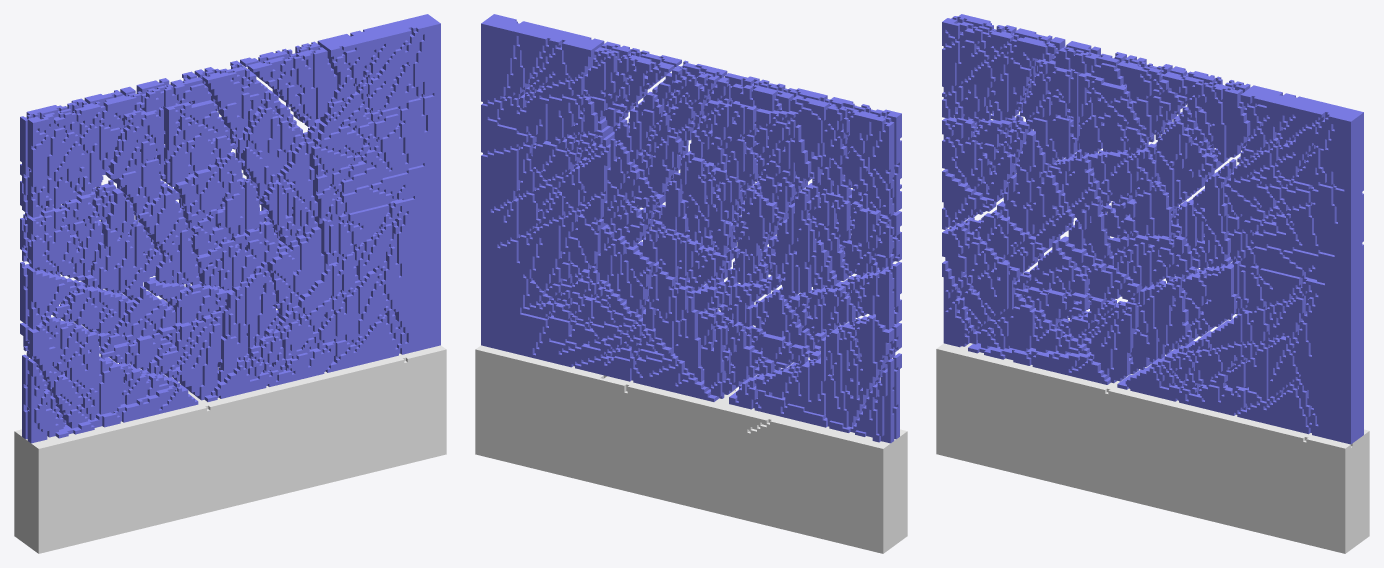
The model's file is Operating_room_Window2-1.fbx.
3 renders of one model, left to right at view 1: azimuth 30°, elevation 25°; view 2: azimuth 150°, elevation 25°; view 3: azimuth 330°, elevation 25°, orthographic.
Parts seen in each view (by area): view 1: Operating room Window2-1.001, Operating room Window2-1.039, Operating room Window2-1.011, Operating room Window2-1.004, Operating room Window2-1.037, Operating room Window2-1.033, Operating room Window2-1.020, Operating room Window2-1.008, Operating room Window2-1.016, Operating room Window2-1.032, Operating room Window2-1.022, Operating room Window2-1.041 (+18 smaller); view 2: Operating room Window2-1.001, Operating room Window2-1.039, Operating room Window2-1.010, Operating room Window2-1.005, Operating room Window2-1.038, Operating room Window2-1.034, Operating room Window2-1.009, Operating room Window2-1.017, Operating room Window2-1.023, Operating room Window2-1.031, Operating room Window2-1.040, Operating room Window2-1.029 (+21 smaller); view 3: Operating room Window2-1.039, Operating room Window2-1.001, Operating room Window2-1.011, Operating room Window2-1.004, Operating room Window2-1.037, Operating room Window2-1.033, Operating room Window2-1.020, Operating room Window2-1.008, Operating room Window2-1.016, Operating room Window2-1.022, Operating room Window2-1.032, Operating room Window2-1.043 (+15 smaller).
Boxes of the visible parts, x1=… form: Operating room Window2-1.001: x1=14, y1=345, x2=446, y2=553; Operating room Window2-1.039: x1=204, y1=14, x2=440, y2=401; Operating room Window2-1.011: x1=27, y1=93, x2=141, y2=217; Operating room Window2-1.004: x1=27, y1=315, x2=173, y2=428; Operating room Window2-1.037: x1=202, y1=67, x2=302, y2=196; Operating room Window2-1.033: x1=175, y1=152, x2=269, y2=255; Operating room Window2-1.020: x1=100, y1=311, x2=222, y2=400; Operating room Window2-1.008: x1=27, y1=180, x2=115, y2=281; Operating room Window2-1.016: x1=82, y1=188, x2=162, y2=298; Operating room Window2-1.032: x1=163, y1=100, x2=233, y2=187; Operating room Window2-1.022: x1=105, y1=107, x2=165, y2=212; Operating room Window2-1.041: x1=217, y1=261, x2=278, y2=381; Operating room Window2-1.001: x1=475, y1=345, x2=907, y2=553; Operating room Window2-1.039: x1=481, y1=14, x2=719, y2=401; Operating room Window2-1.010: x1=778, y1=92, x2=894, y2=216; Operating room Window2-1.005: x1=748, y1=314, x2=894, y2=427; Operating room Window2-1.038: x1=617, y1=66, x2=719, y2=194; Operating room Window2-1.034: x1=654, y1=150, x2=745, y2=255; Operating room Window2-1.009: x1=811, y1=186, x2=894, y2=281; Operating room Window2-1.017: x1=762, y1=188, x2=839, y2=298; Operating room Window2-1.023: x1=756, y1=108, x2=814, y2=212; Operating room Window2-1.031: x1=690, y1=100, x2=758, y2=185; Operating room Window2-1.040: x1=643, y1=261, x2=704, y2=381; Operating room Window2-1.029: x1=698, y1=310, x2=774, y2=398; Operating room Window2-1.039: x1=1117, y1=85, x2=1363, y2=444; Operating room Window2-1.001: x1=936, y1=343, x2=1369, y2=553; Operating room Window2-1.011: x1=942, y1=18, x2=1057, y2=120; Operating room Window2-1.004: x1=942, y1=223, x2=1089, y2=354; Operating room Window2-1.037: x1=1117, y1=61, x2=1220, y2=207; Operating room Window2-1.033: x1=1088, y1=147, x2=1181, y2=237; Operating room Window2-1.020: x1=1015, y1=286, x2=1138, y2=383; Operating room Window2-1.008: x1=942, y1=117, x2=1030, y2=204; Operating room Window2-1.016: x1=997, y1=130, x2=1074, y2=248; Operating room Window2-1.022: x1=1020, y1=59, x2=1080, y2=164; Operating room Window2-1.032: x1=1078, y1=72, x2=1148, y2=155; Operating room Window2-1.043: x1=1162, y1=72, x2=1250, y2=161.
Size of the model in its own units: 12.6 by 12.6 by 1.3.
